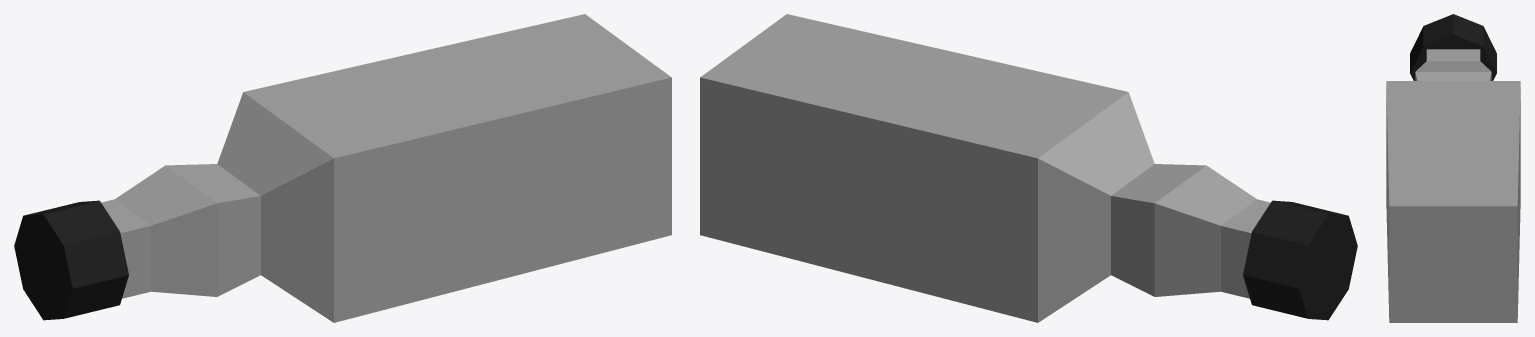
The model's file is Model_Butelka_1.fbx.
3 views of the same model, side by side, from view 1: azimuth 30°, elevation 25°; view 2: azimuth 150°, elevation 25°; view 3: azimuth 270°, elevation 25° (orthographic). The views are drawn at different scales.
Visible parts, largest first — view 1: Mesh_Butelka_1; view 2: Mesh_Butelka_1; view 3: Mesh_Butelka_1.
Boxes of the visible parts, <box> form: Mesh_Butelka_1: <box>14,14,671,322</box>; Mesh_Butelka_1: <box>700,14,1357,322</box>; Mesh_Butelka_1: <box>1386,14,1520,322</box>.
Bounding box in the file's own units: 10.15 × 10.16 × 37.8.
